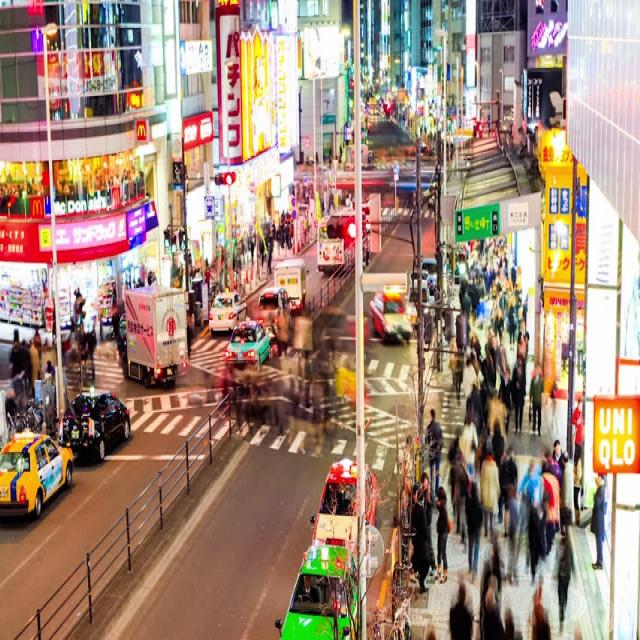body: (7, 267, 159, 424), (205, 299, 342, 453), (450, 233, 530, 403), (305, 72, 381, 172), (0, 162, 146, 209), (517, 446, 561, 586), (380, 92, 456, 164), (231, 209, 297, 276), (445, 401, 513, 460), (168, 241, 195, 364), (446, 459, 476, 557), (552, 521, 577, 635), (296, 186, 342, 242), (409, 487, 431, 596), (463, 477, 484, 584), (479, 443, 501, 540), (195, 240, 232, 297), (588, 468, 607, 571), (499, 444, 519, 539), (424, 406, 444, 498), (502, 483, 520, 585), (479, 538, 506, 602), (421, 468, 437, 575), (434, 486, 451, 586), (551, 439, 568, 537), (559, 449, 575, 552), (448, 581, 474, 639), (527, 362, 545, 438), (480, 586, 506, 638), (570, 394, 585, 478), (498, 367, 516, 437), (511, 355, 526, 436), (525, 585, 551, 628), (571, 441, 583, 527), (530, 602, 553, 638), (296, 572, 321, 605), (407, 479, 422, 529), (324, 482, 346, 514), (503, 606, 514, 640), (422, 626, 437, 640)
